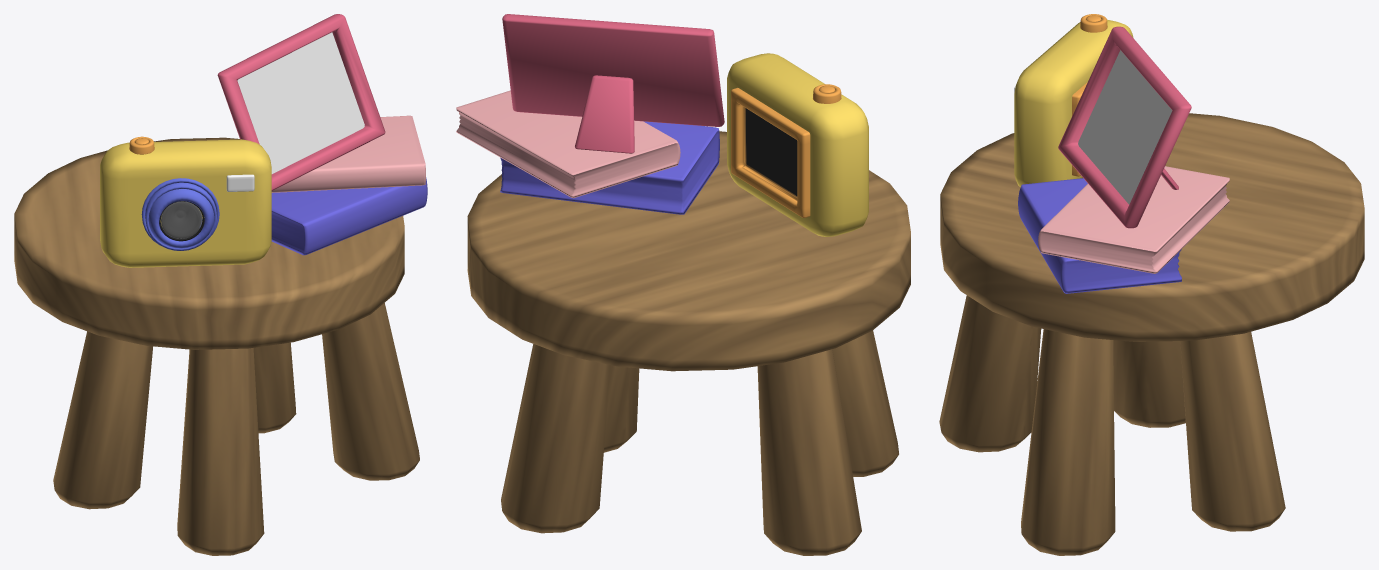
The model's file is table.glb.
3 views of the same model, side by side, from view 1: azimuth 30°, elevation 25°; view 2: azimuth 150°, elevation 25°; view 3: azimuth 270°, elevation 25° (orthographic). The views are drawn at different scales.
Visible parts, largest first — view 1: table_legs, table, camera, frame_screen, book_big, frame, book_small, camera_lens_outer, camera_lens, camera_lens_inner; view 2: table, table_legs, frame, camera, book_small, book_big, camera_screen, frame_leg; view 3: table, table_legs, book_small, camera, frame_screen, frame, book_big.
Boxes of the visible parts, box(x1,y1,x2,y2) form: table_legs: box(53, 303, 419, 555); table: box(14, 137, 404, 349); camera: box(100, 139, 271, 267); frame_screen: box(237, 32, 364, 173); book_big: box(271, 177, 427, 255); frame: box(217, 14, 385, 190); book_small: box(271, 115, 425, 192); camera_lens_outer: box(141, 178, 219, 250); camera_lens: box(161, 201, 202, 238); camera_lens_inner: box(161, 201, 202, 238); table: box(467, 131, 910, 371); table_legs: box(501, 330, 898, 555); frame: box(502, 14, 724, 126); camera: box(727, 53, 868, 236); book_small: box(456, 90, 680, 198); book_big: box(500, 121, 719, 214); camera_screen: box(731, 87, 810, 217); frame_leg: box(575, 75, 634, 153); table: box(940, 113, 1364, 341); table_legs: box(939, 295, 1285, 555); book_small: box(1038, 166, 1229, 273); camera: box(1014, 19, 1133, 187); frame_screen: box(1078, 50, 1172, 204); frame: box(1058, 26, 1191, 228); book_big: box(1018, 178, 1181, 293).
Bounding box in the file's own units: 2.15 × 2.24 × 1.95.
Materials: 14 (12 with a texture image).
